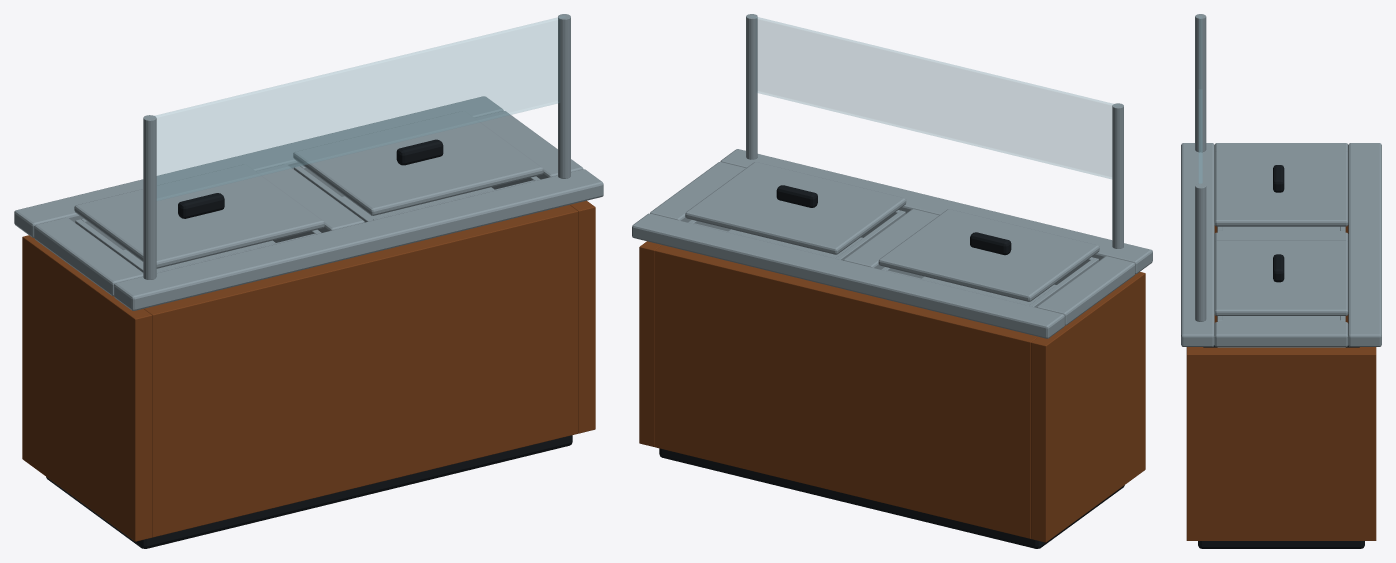
The picture shows the model from 3 angles, left to right: view 1: azimuth 30°, elevation 25°; view 2: azimuth 150°, elevation 25°; view 3: azimuth 270°, elevation 25°; orthographic projection. The views are drawn at different scales.
Visible parts, largest first — view 1: BODY_Front, GUARD_ClearPane, BODY_Side.001, COUNTER_Edge.001, LID.001, LID, COUNTER_Edge, PLINTH, BODY_Side, COUNTER_Divider.001, COUNTER_Divider.002, GUARD_Post (+4 smaller); view 2: BODY_Back, GUARD_ClearPane, BODY_Side.001, COUNTER_Edge, LID, LID.001, COUNTER_Edge.001, PLINTH, BODY_Side, COUNTER_Divider.001, COUNTER_Divider.002, COUNTER_Divider (+4 smaller); view 3: BODY_Side, LID, LID.001, COUNTER_Edge, COUNTER_Edge.001, COUNTER_Divider, GUARD_Post, GUARD_Post.001, PLINTH, COUNTER_Divider.001, COUNTER_Divider.002, GUARD_ClearPane (+6 smaller).
Part boxes in pixels (x1,y1,x2,y2): BODY_Front: (144,205,578,537); GUARD_ClearPane: (155,16,564,200); BODY_Side.001: (22,235,152,541); COUNTER_Edge.001: (114,169,603,310); LID.001: (293,111,543,215); LID: (74,164,324,268); COUNTER_Edge: (14,96,503,237); PLINTH: (46,435,572,548); BODY_Side: (570,200,595,433); COUNTER_Divider.001: (34,217,143,296); COUNTER_Divider.002: (256,164,364,232); GUARD_Post: (143,115,156,279); BODY_Back: (654,245,1038,538); GUARD_ClearPane: (751,16,1113,178); BODY_Side.001: (1031,272,1145,542); COUNTER_Edge: (632,213,1064,338); LID: (878,209,1099,301); LID.001: (685,162,906,254); COUNTER_Edge.001: (720,149,1152,274); PLINTH: (659,448,1124,548); BODY_Side: (639,241,661,446); COUNTER_Divider.001: (1036,256,1135,325); COUNTER_Divider.002: (843,209,938,269); COUNTER_Divider: (650,162,745,222); BODY_Side: (1186,347,1376,540); LID: (1214,151,1348,226); LID.001: (1214,240,1348,315); COUNTER_Edge: (1348,143,1381,346); COUNTER_Edge.001: (1181,143,1214,346); COUNTER_Divider: (1214,322,1348,346); GUARD_Post: (1195,14,1206,152); GUARD_Post.001: (1195,183,1206,321); PLINTH: (1198,345,1364,548); COUNTER_Divider.001: (1214,143,1348,152); COUNTER_Divider.002: (1214,232,1348,241); GUARD_ClearPane: (1199,16,1202,183).
Size of the model in its own units: 1.64 by 1.43 by 0.72.
